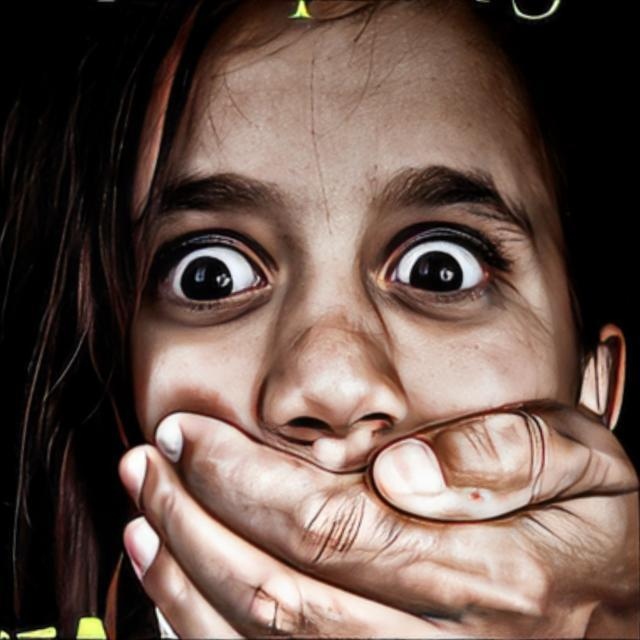fear: (126, 0, 582, 640)
